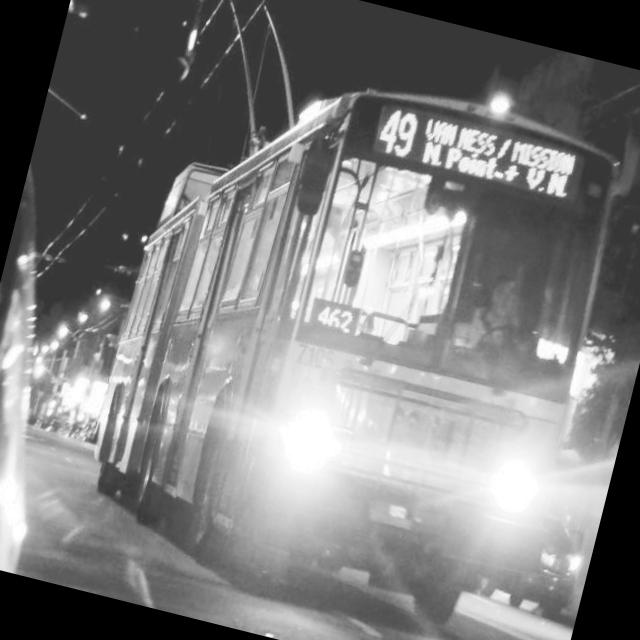Bus: (34, 34, 640, 640)
Car: (492, 477, 605, 640)
